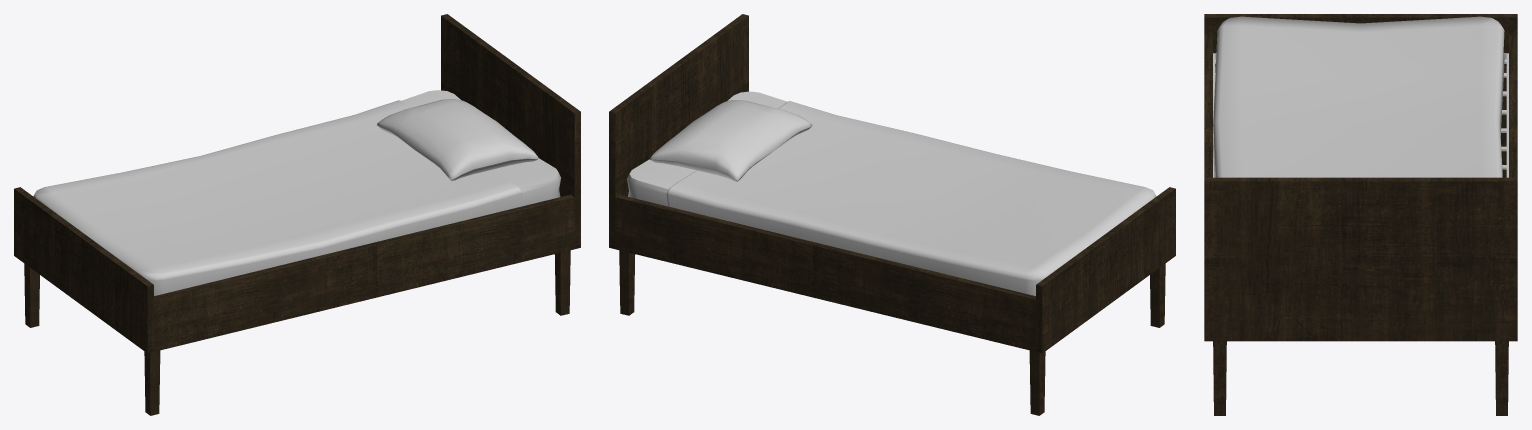
Rendered from bed_3_b_3_made.obj.
3 renders of one model, left to right at view 1: azimuth 30°, elevation 25°; view 2: azimuth 150°, elevation 25°; view 3: azimuth 270°, elevation 25°, orthographic. The views are drawn at different scales.
Parts seen in each view (by area): view 1: bed_3_b_3_made; view 2: bed_3_b_3_made; view 3: bed_3_b_3_made.
Part boxes in pixels (x1=…): bed_3_b_3_made: x1=14, y1=14, x2=580, y2=415; bed_3_b_3_made: x1=609, y1=14, x2=1175, y2=415; bed_3_b_3_made: x1=1204, y1=14, x2=1517, y2=415.
Size of the model in its own units: 2.7 by 1.21 by 1.44.
